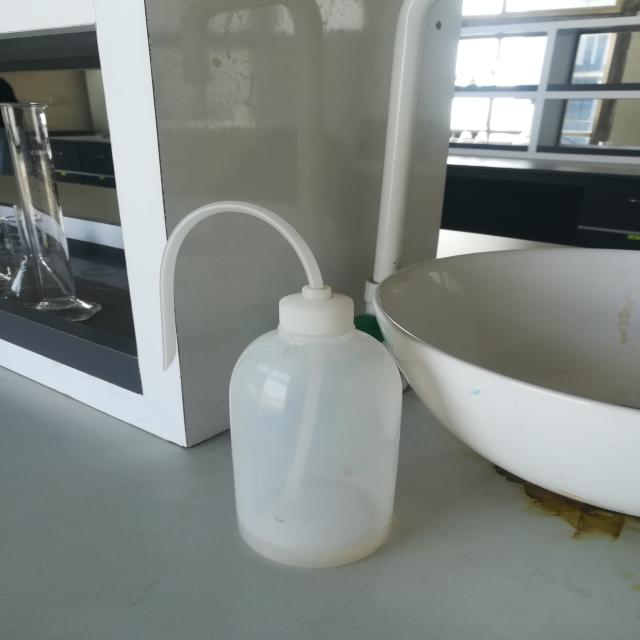Wash_Bottle: (110, 185, 440, 598)
